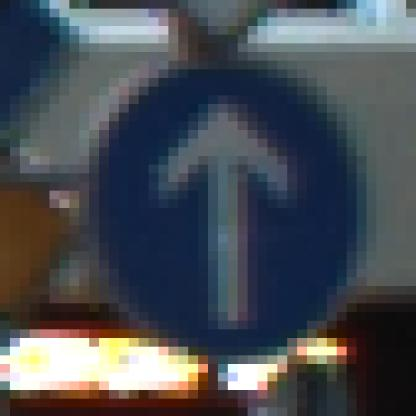AheadOnly: (61, 44, 368, 365)
